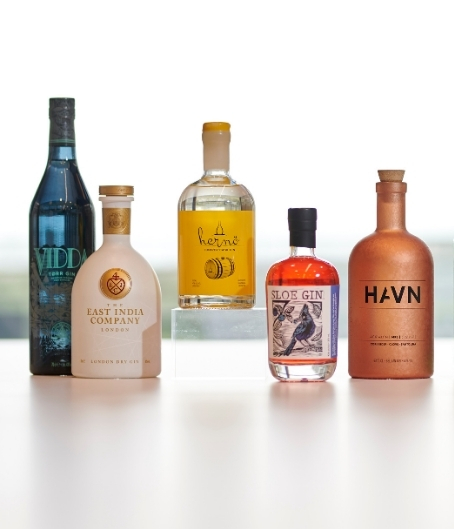glass_bottle: (343, 168, 441, 384), (25, 97, 98, 379), (69, 179, 165, 385), (172, 119, 260, 315), (262, 203, 340, 388)
